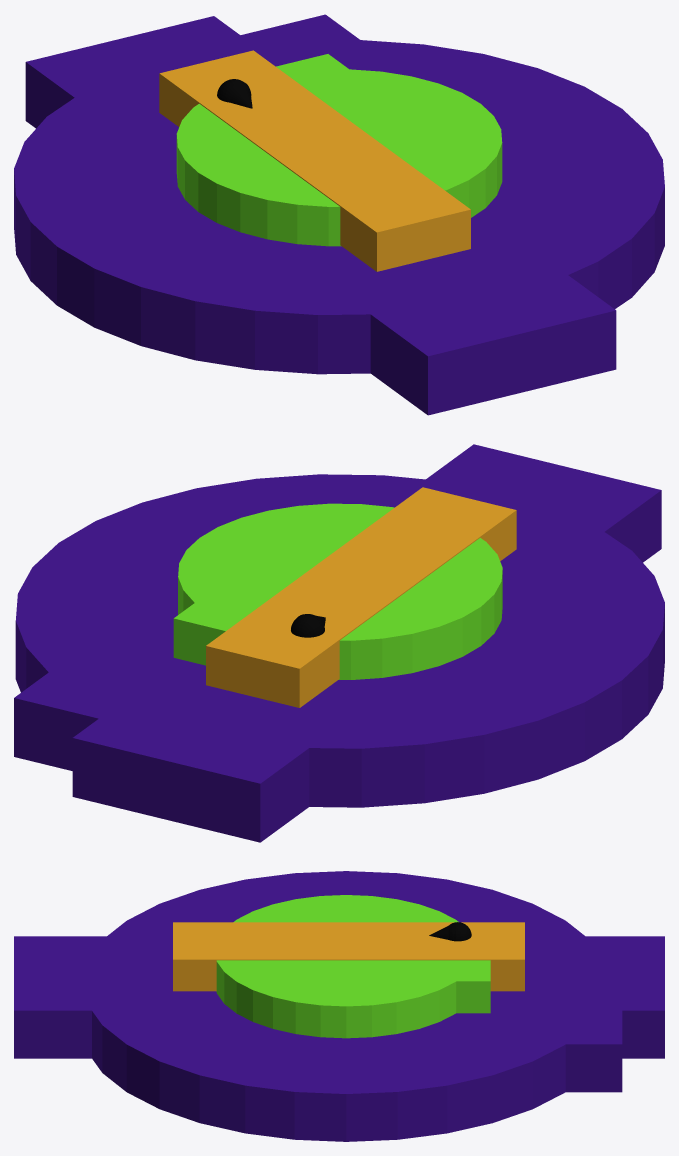
Rendered from opacidad.fbx.
3 renders of one model, top to bottom at view 1: azimuth 30°, elevation 25°; view 2: azimuth 150°, elevation 25°; view 3: azimuth 270°, elevation 25°, orthographic. The views are drawn at different scales.
Parts seen in each view (by area): view 1: Cone.004; view 2: Cone.004; view 3: Cone.004.
Boxes of the visible parts, <box> form: Cone.004: <box>14,14,664,415</box>; Cone.004: <box>14,444,664,842</box>; Cone.004: <box>14,871,664,1141</box>.
Bounding box in the file's own units: 600 × 116 × 740.
